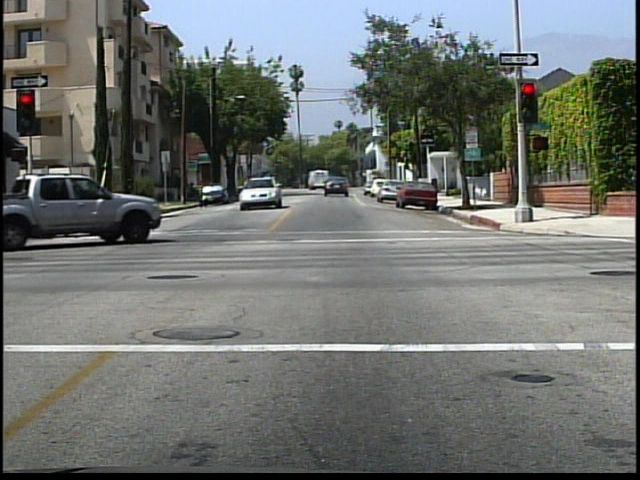car: (16, 176, 176, 251), (241, 175, 283, 210), (400, 180, 435, 208), (320, 173, 354, 199)
strada: (53, 209, 633, 464)
